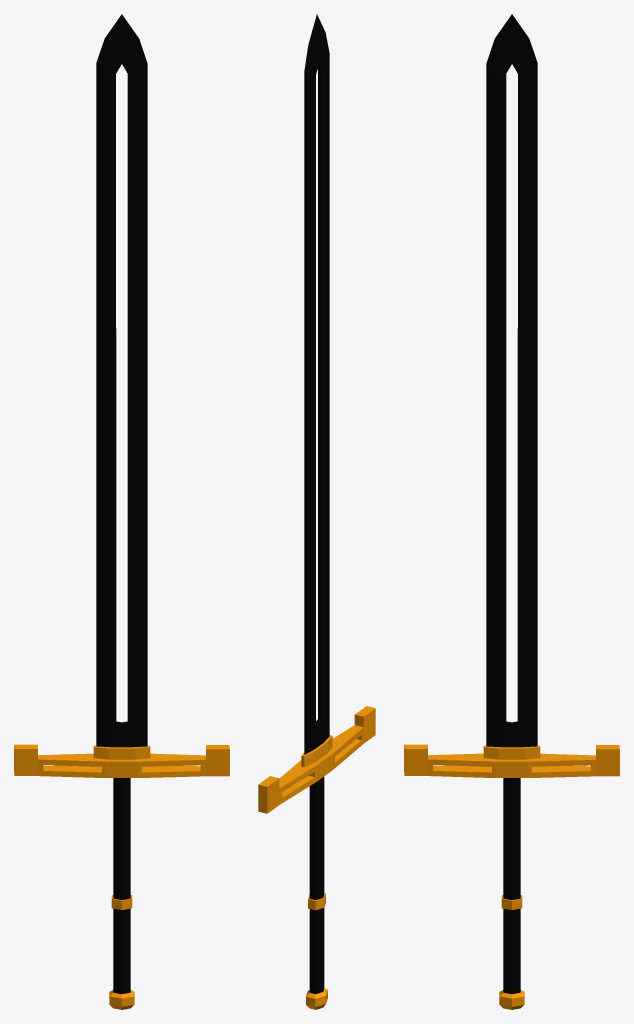
Rendered from TwoHandsSword.fbx.
The picture shows the model from 3 angles, left to right: view 1: azimuth 90°, elevation 25°; view 2: azimuth 150°, elevation 25°; view 3: azimuth 270°, elevation 25°; orthographic projection.
Visible parts, largest first — view 1: Цилиндр.001; view 2: Цилиндр.001; view 3: Цилиндр.001.
Part boxes in pixels (x1,y1,x2,y2): Цилиндр.001: [14, 14, 229, 1009]; Цилиндр.001: [258, 14, 375, 1009]; Цилиндр.001: [404, 14, 619, 1009].
Size of the model in its own units: 0.0484 by 0.4867 by 2.47.
